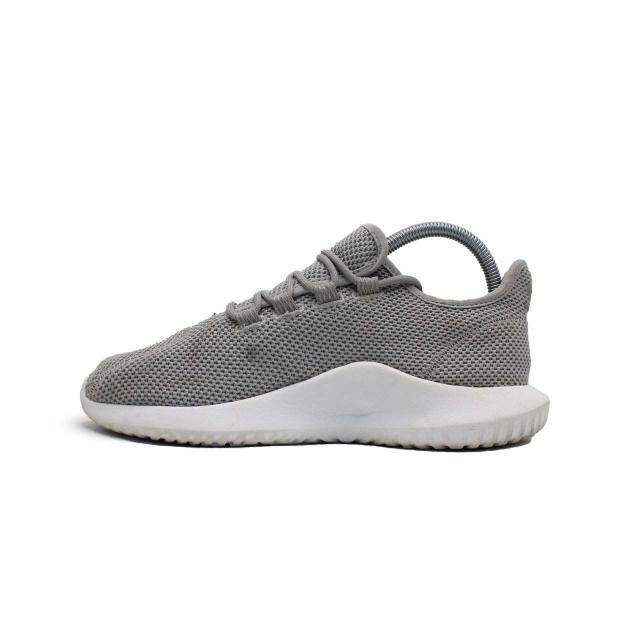heel: (501, 262, 536, 383)
midsole: (81, 363, 547, 448)
uppersole: (83, 229, 505, 409)
